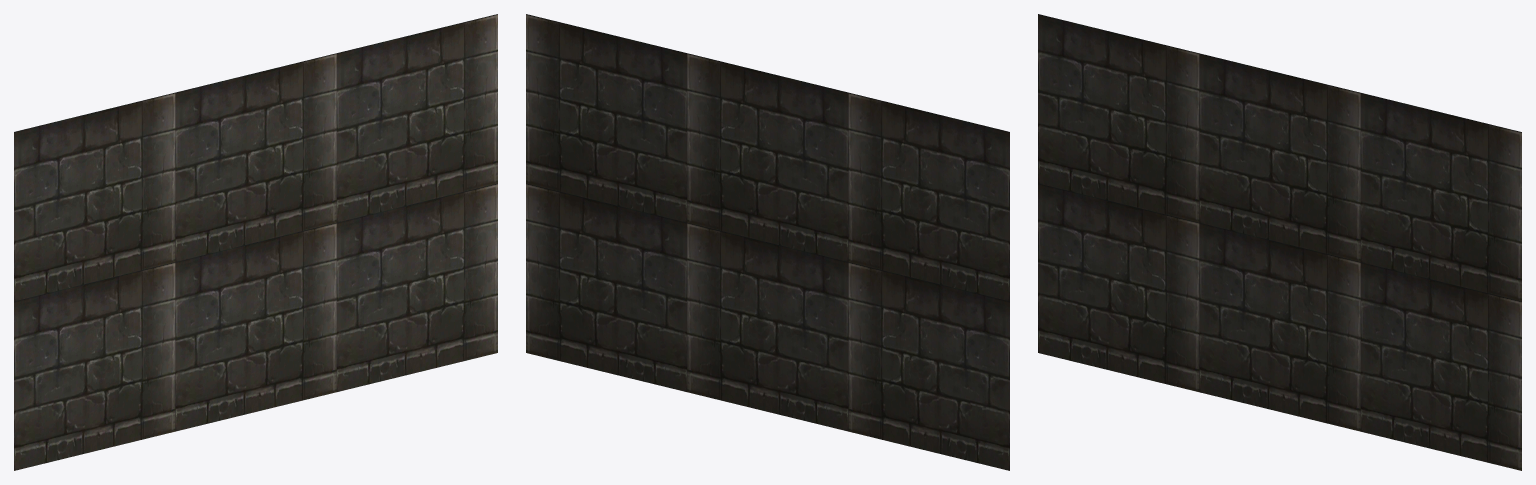
Rendered from h5_building_10.FBX.
3 views of the same model, side by side, from view 1: azimuth 30°, elevation 25°; view 2: azimuth 150°, elevation 25°; view 3: azimuth 330°, elevation 25° (orthographic).
Visible parts, largest first — view 1: h5_building_10; view 2: h5_building_10; view 3: h5_building_10.
Boxes of the visible parts, bbox=[...] form: h5_building_10: bbox=[14, 14, 497, 470]; h5_building_10: bbox=[526, 14, 1009, 470]; h5_building_10: bbox=[1038, 14, 1521, 470].
Bounding box in the file's own units: 13.54 × 9.07 × 0.
1 material, 1 textured.
